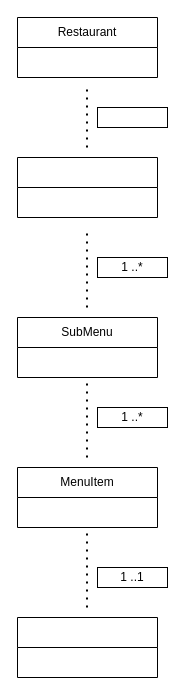
This 185x695 diagram has some shape labels left out. The shapes that lost their labels are listed below. From the top down, each one's centre as x and y in pixels, then its label:
At (132,117): "M..N".
At (87,187): "Menu".
At (87,647): "Images".
